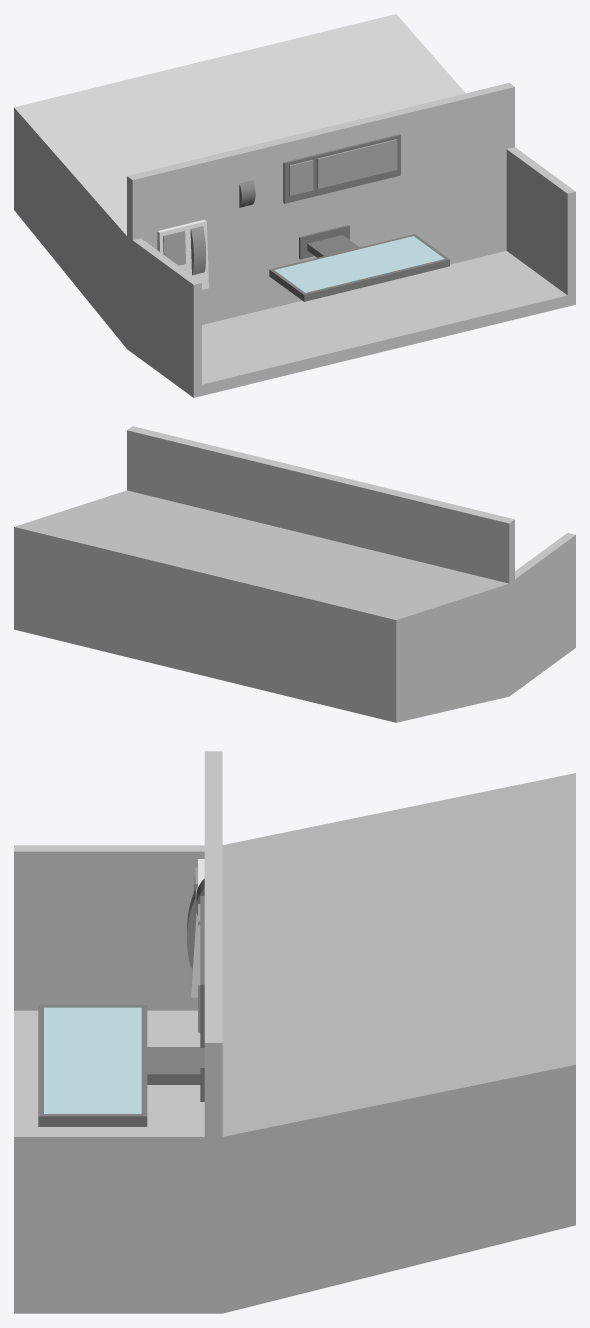
File: gate_counter.dae
3 renders of one model, top to bottom at view 1: azimuth 30°, elevation 25°; view 2: azimuth 150°, elevation 25°; view 3: azimuth 270°, elevation 25°, orthographic. The views are drawn at different scales.
Parts seen in each view (by area): view 1: instance_0_011, instance_0_006, instance_0_003, instance_0_002, instance_0_012, instance_0, instance_0_008, instance_0_016; view 2: instance_0_011; view 3: instance_0_011, instance_0_006, instance_0_002, instance_0_012.
Boxes of the visible parts, box(x1,y1,x2,y2) form: instance_0_011: box(14, 14, 575, 397); instance_0_006: box(274, 236, 444, 292); instance_0_003: box(163, 139, 397, 265); instance_0_002: box(269, 234, 449, 301); instance_0_012: box(283, 134, 400, 203); instance_0: box(157, 219, 208, 289); instance_0_008: box(190, 226, 205, 275); instance_0_016: box(299, 225, 349, 259); instance_0_011: box(14, 426, 575, 722); instance_0_011: box(14, 751, 575, 1313); instance_0_006: box(44, 1007, 141, 1113); instance_0_002: box(38, 1005, 200, 1126); instance_0_012: box(200, 896, 204, 1047).
Size of the model in its own units: 640 by 283 by 521.
